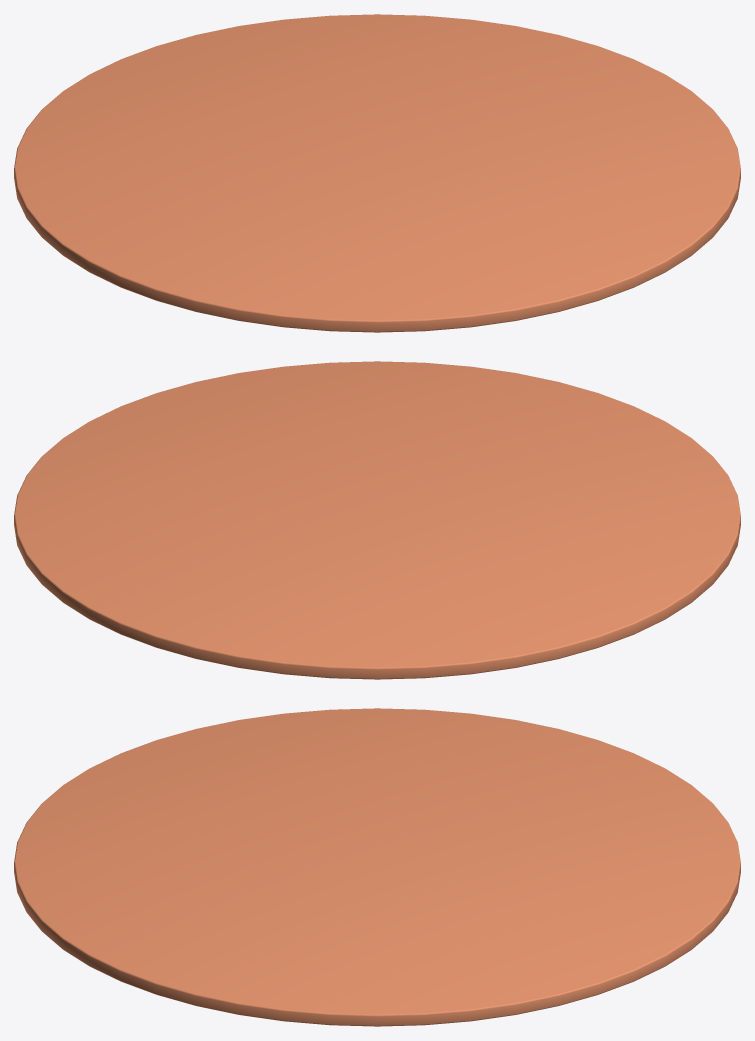
The model's file is rug-round.glb.
The picture shows the model from 3 angles, top to bottom: view 1: azimuth 30°, elevation 25°; view 2: azimuth 150°, elevation 25°; view 3: azimuth 270°, elevation 25°; orthographic projection.
Parts seen in each view (by area): view 1: rug; view 2: rug; view 3: rug.
Part boxes in pixels (x1=…): rug: x1=14, y1=14, x2=740, y2=332; rug: x1=14, y1=361, x2=740, y2=679; rug: x1=14, y1=708, x2=740, y2=1026.
Bounding box in the file's own units: 2.2 × 0.04 × 2.2.
